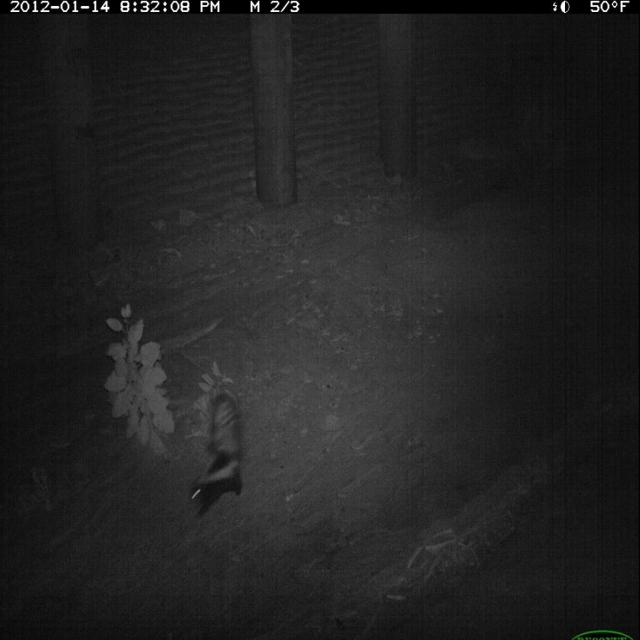skunk: (185, 387, 251, 526)
